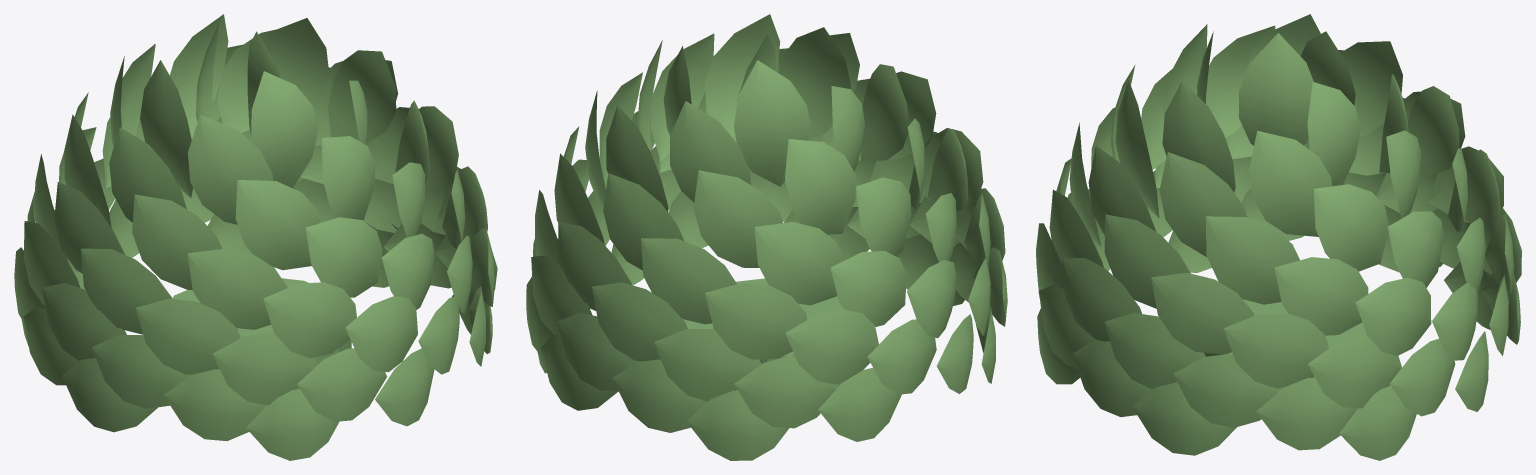
The model's file is moss.glb.
3 renders of one model, left to right at view 1: azimuth 30°, elevation 25°; view 2: azimuth 150°, elevation 25°; view 3: azimuth 270°, elevation 25°, orthographic.
Visible parts, largest first — view 1: moss, moss_base; view 2: moss, moss_base; view 3: moss, moss_base.
Part boxes in pixels (<box>): moss: <box>14,14,497,460</box>; moss_base: <box>172,278,351,364</box>; moss: <box>526,14,1007,460</box>; moss_base: <box>683,278,843,385</box>; moss: <box>1036,14,1521,460</box>; moss_base: <box>1204,299,1366,387</box>.
Bounding box in the file's own units: 1.29 × 1 × 1.29.
